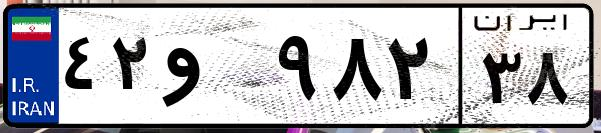2: (385, 28, 445, 110), (110, 28, 158, 98)
3: (475, 38, 525, 113)
4: (57, 26, 110, 100)
8: (330, 28, 385, 110), (525, 38, 570, 115)
9: (270, 28, 330, 110)
و: (158, 20, 270, 120)
